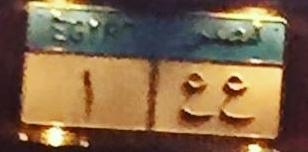1: (78, 67, 101, 121)
ain: (178, 70, 213, 130), (219, 74, 255, 132)
